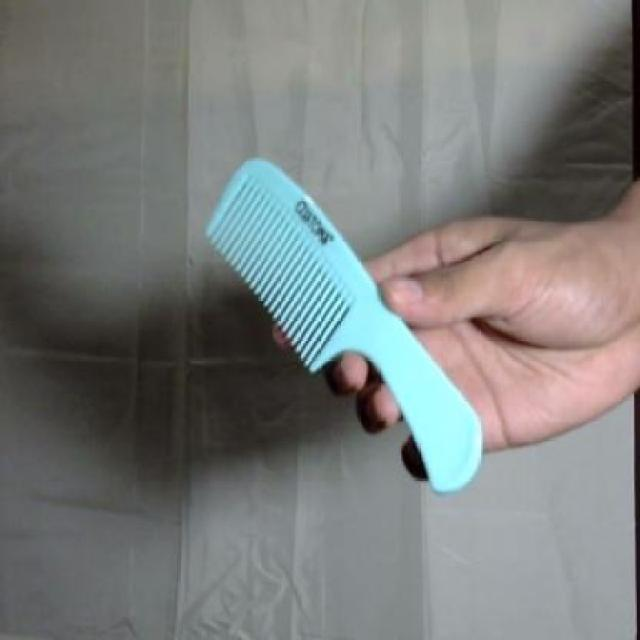Plastic: (203, 152, 500, 504)
